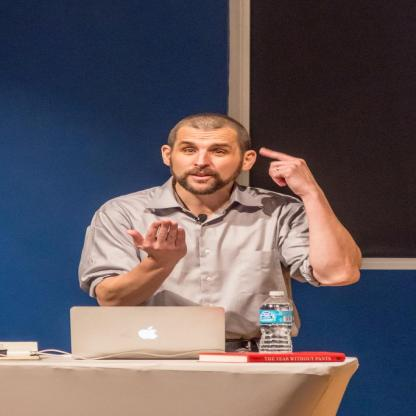board: (68, 306, 226, 361), (258, 291, 292, 352)
